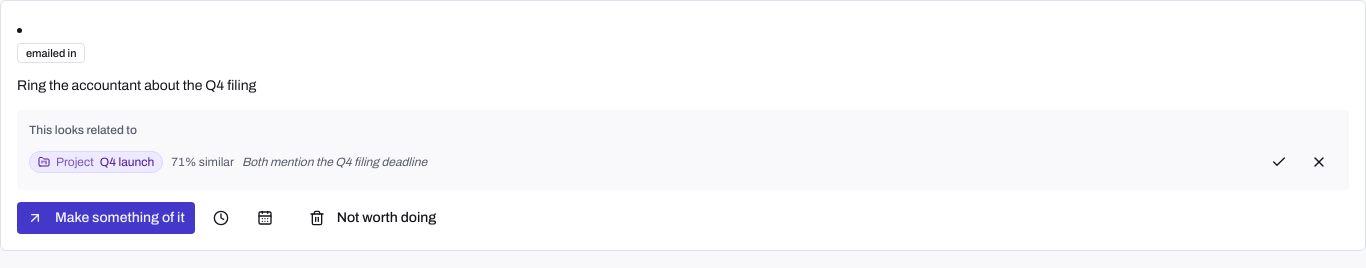
Test: ThoughtCard › brings the suggestion back if the review failed
Click the button named "accept this connection" at (1279, 162), box [1261,146,1297,178]
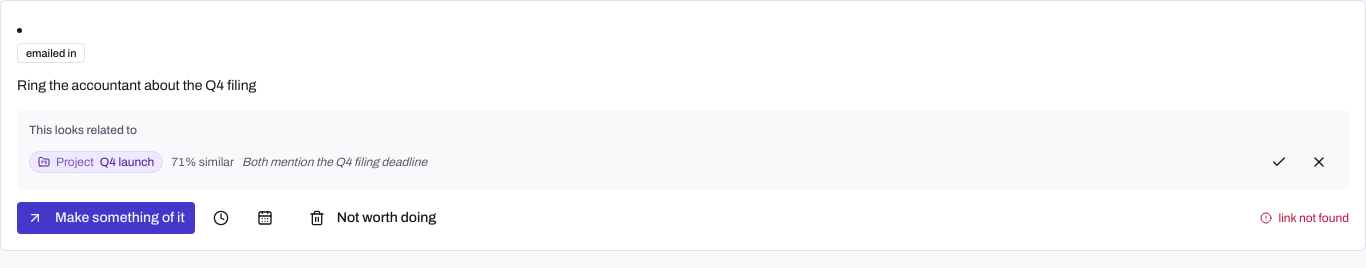
Expected: the text "Q4 launch" is shown, [100,154,154,170]
Expected: the text "link not found" is shown, [1260,210,1349,226]
